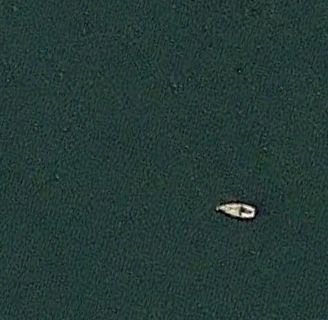boat: (215, 199, 258, 222)
